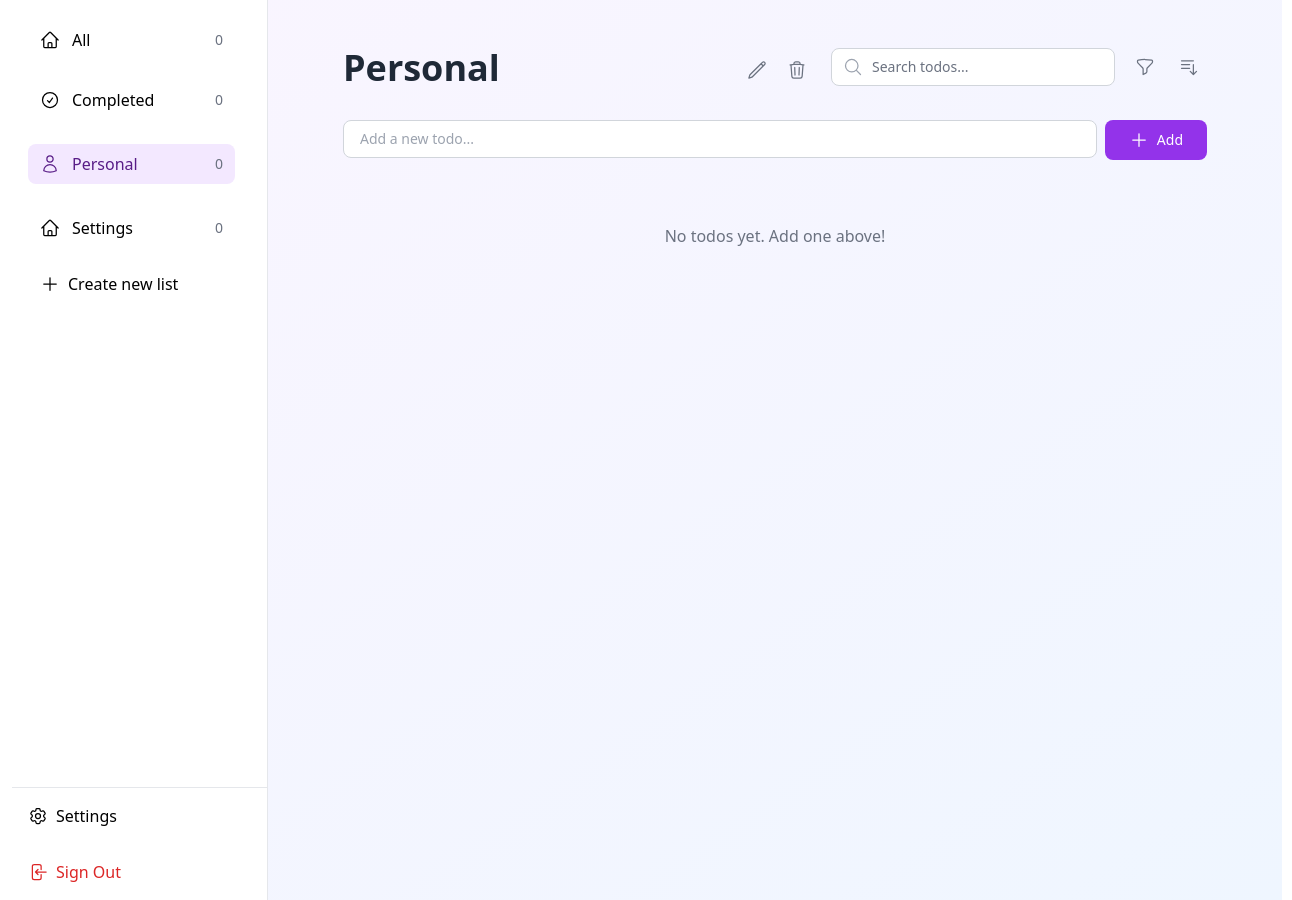
Test: App › can add new todo
Type "New Test Todo" into the field with placeholder "Add a new todo..." at (720, 139), box [343, 120, 1097, 158]
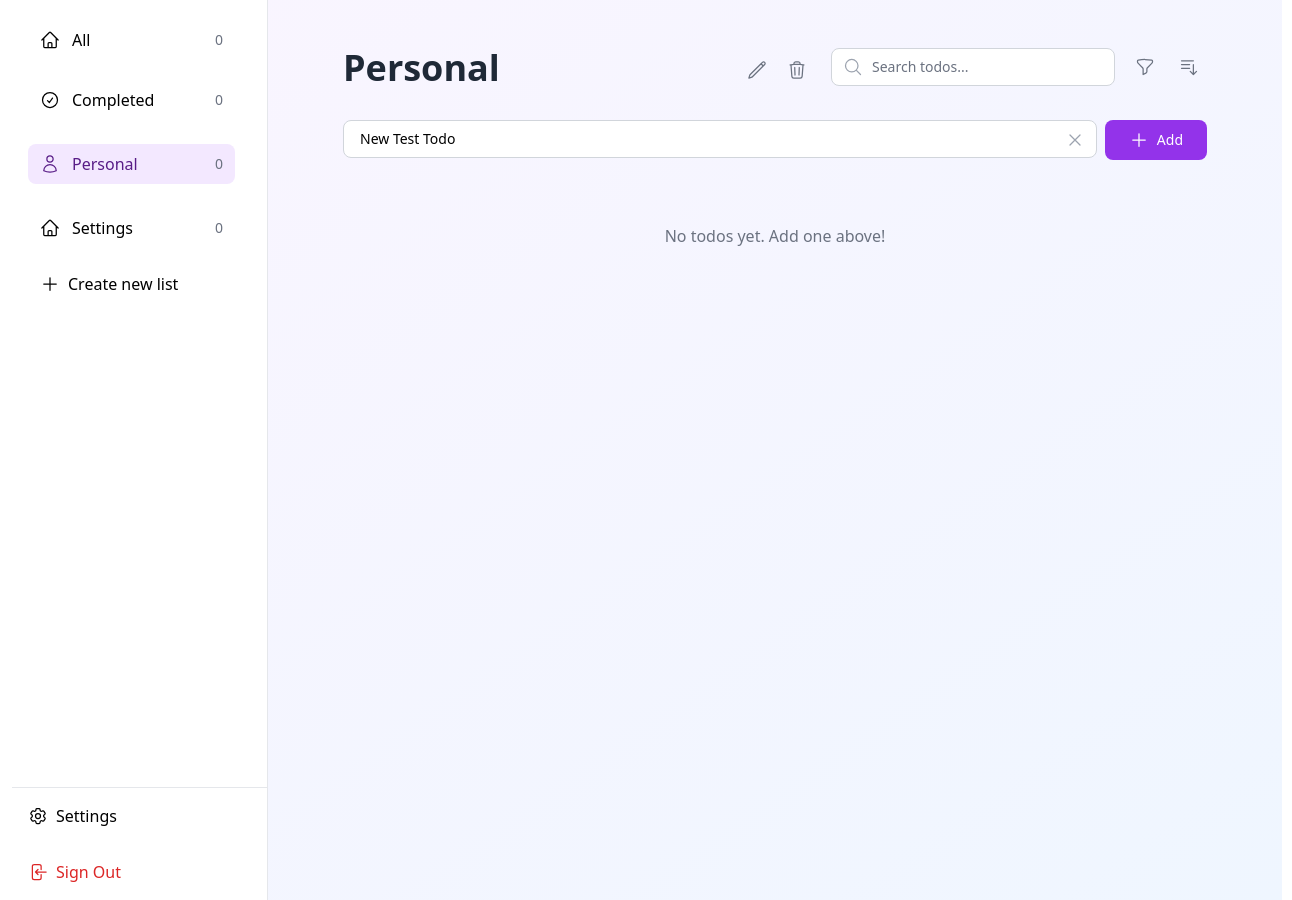
Click the button "Add" at (1156, 140), box [1105, 120, 1207, 160]
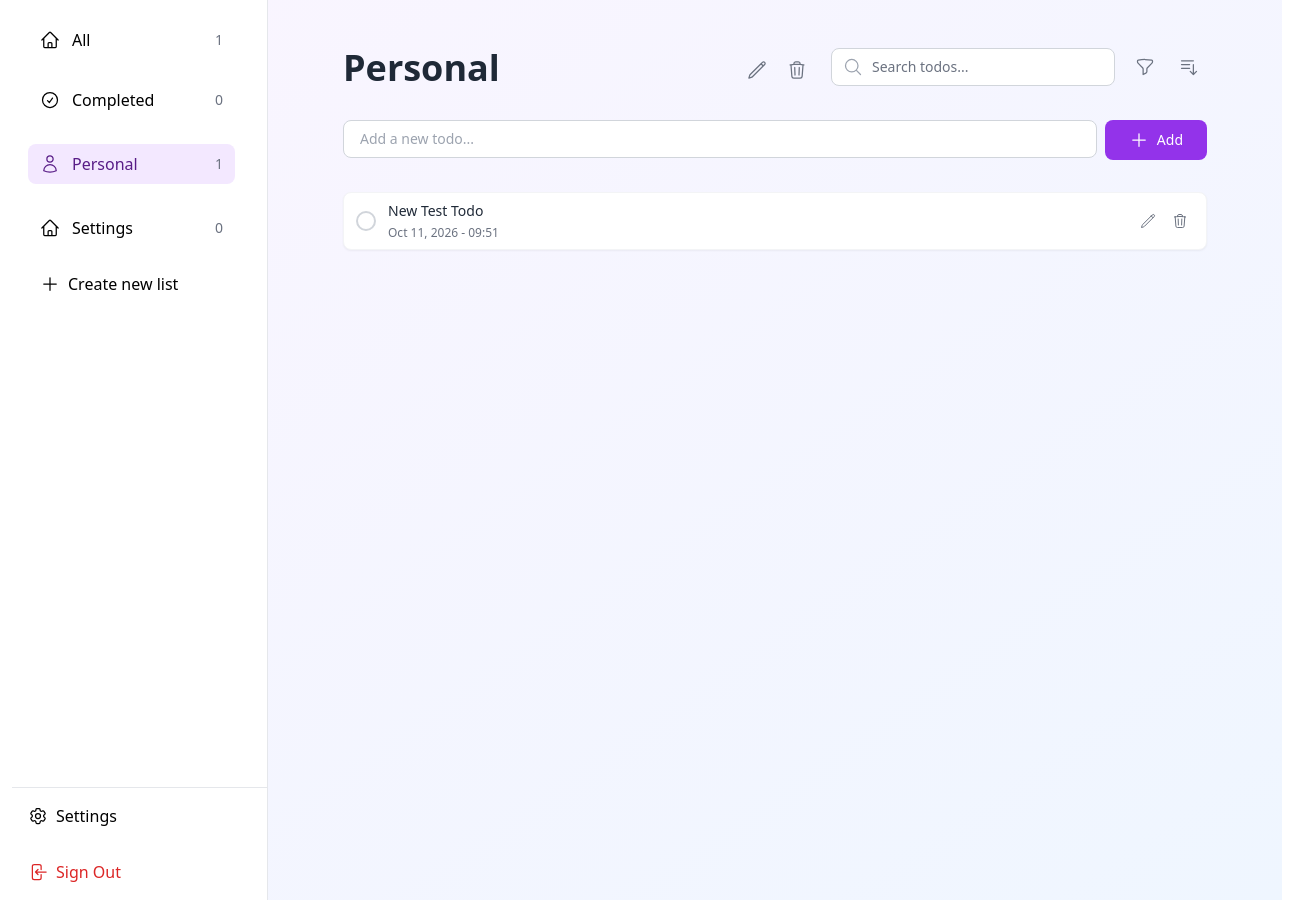
Now the text "New Test Todo" is shown, box [388, 201, 483, 220]
